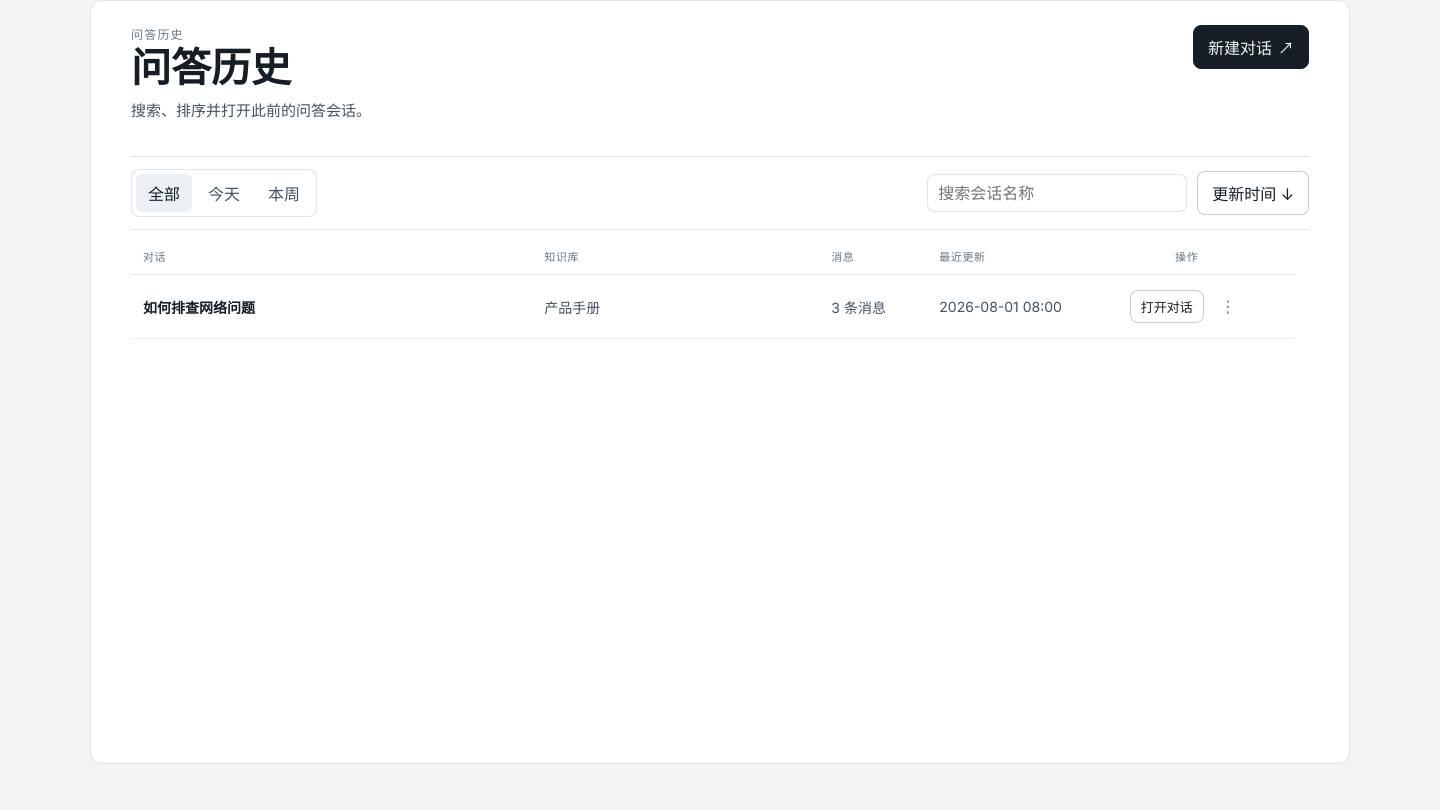
Test: 问答历史页（服务端搜索/排序/分页） › 删除失败：toast 反馈且确认框保持打开
Expected: the link "如何排查网络问题" is shown, [143,298,255,316]
Step 1. Click the button named "会话操作" → (1228, 306), box [1212,290,1244,322]
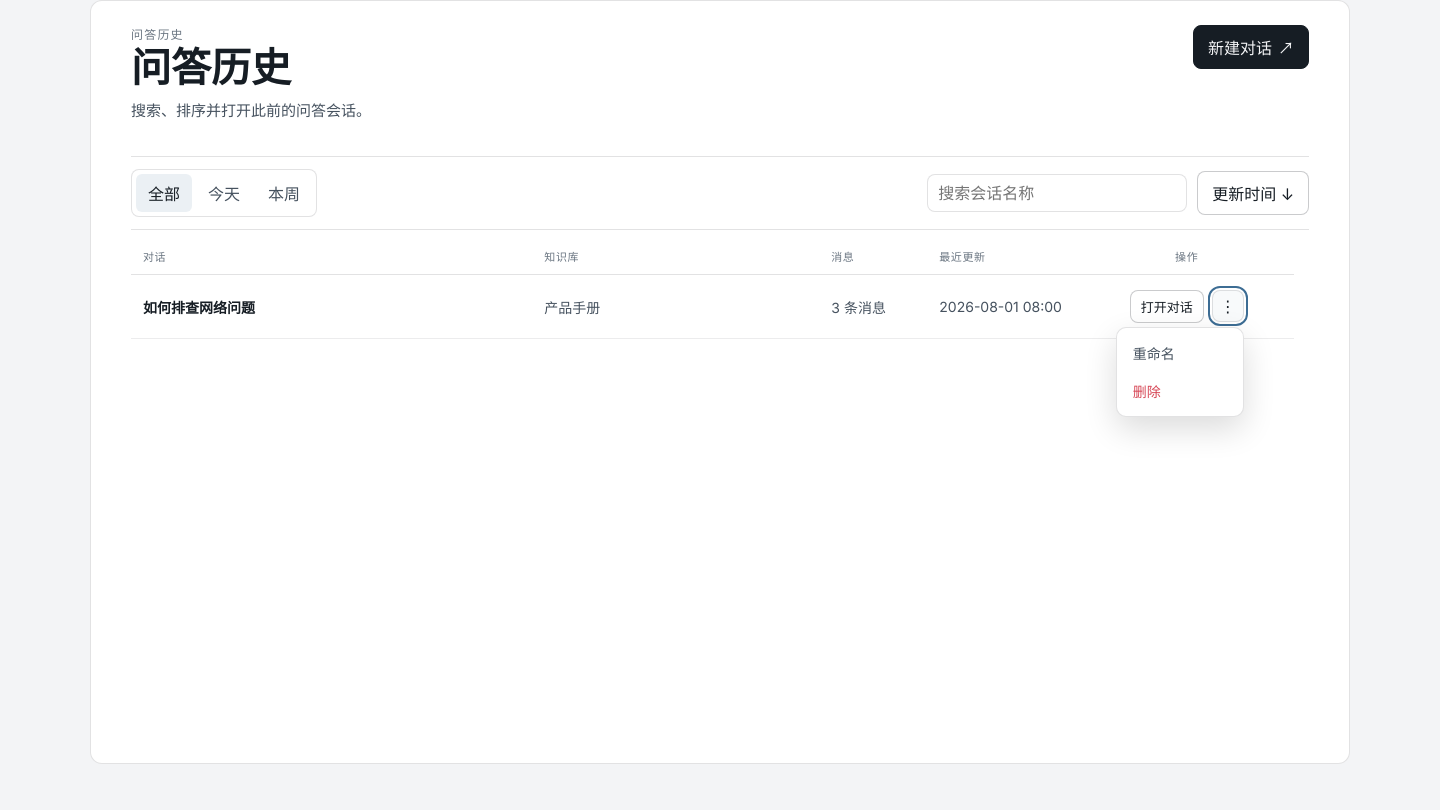
Step 2. Click the menu item "删除" → (1180, 391), box [1123,372,1237,410]
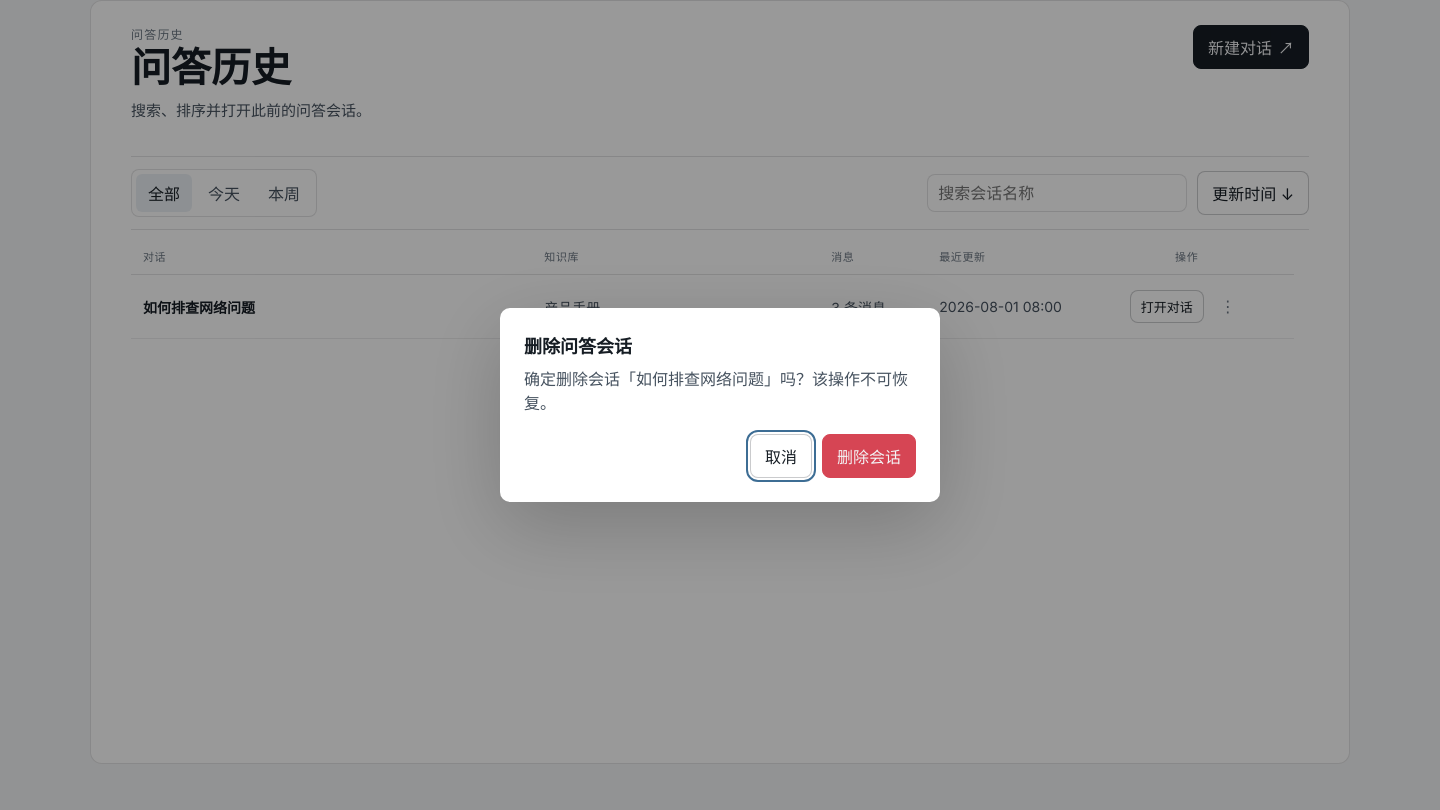
Step 3. Click the button "删除会话" → (869, 456), box [822,434,916,478]
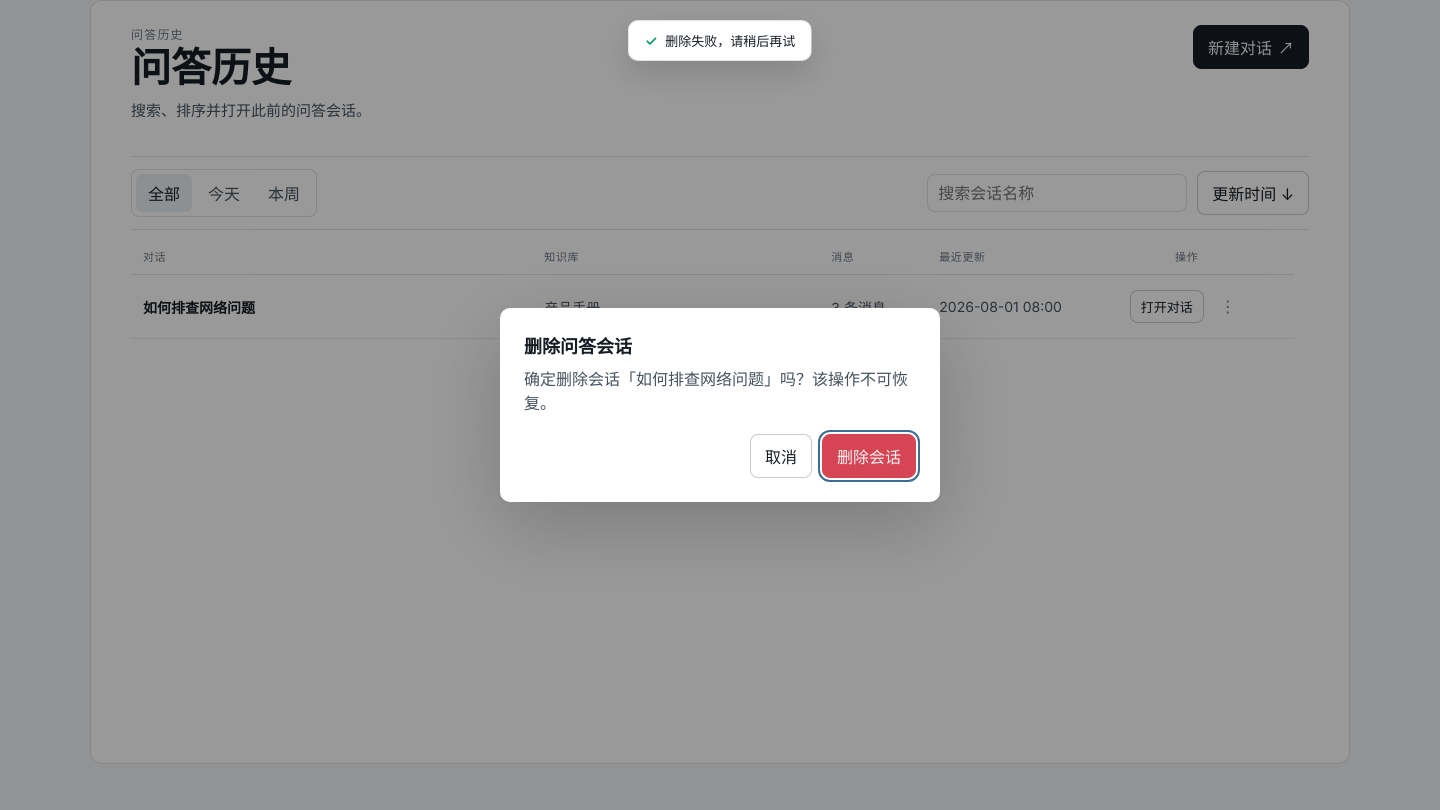
Now the text "删除失败，请稍后再试" is shown, box [665,33,795,49]
